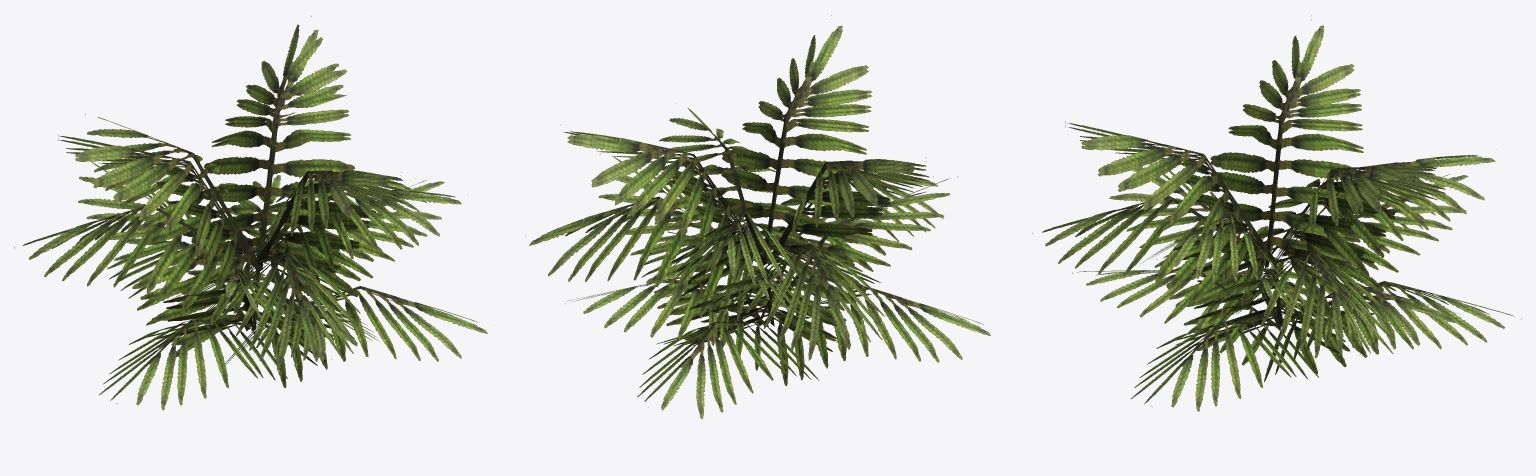
The model's file is tropic_bush_biome_0.glb.
3 views of the same model, side by side, from view 1: azimuth 30°, elevation 25°; view 2: azimuth 150°, elevation 25°; view 3: azimuth 270°, elevation 25° (orthographic).
Visible parts, largest first — view 1: tropic_bush_biome_0; view 2: tropic_bush_biome_0; view 3: tropic_bush_biome_0.
Boxes of the visible parts, box(x1,y1,x2,y2) form: tropic_bush_biome_0: box(14, 15, 487, 410); tropic_bush_biome_0: box(525, 15, 990, 419); tropic_bush_biome_0: box(1032, 15, 1521, 411).
Bounding box in the file's own units: 4.4 × 2.7 × 4.51.
Materials: 1 (1 with a texture image).
